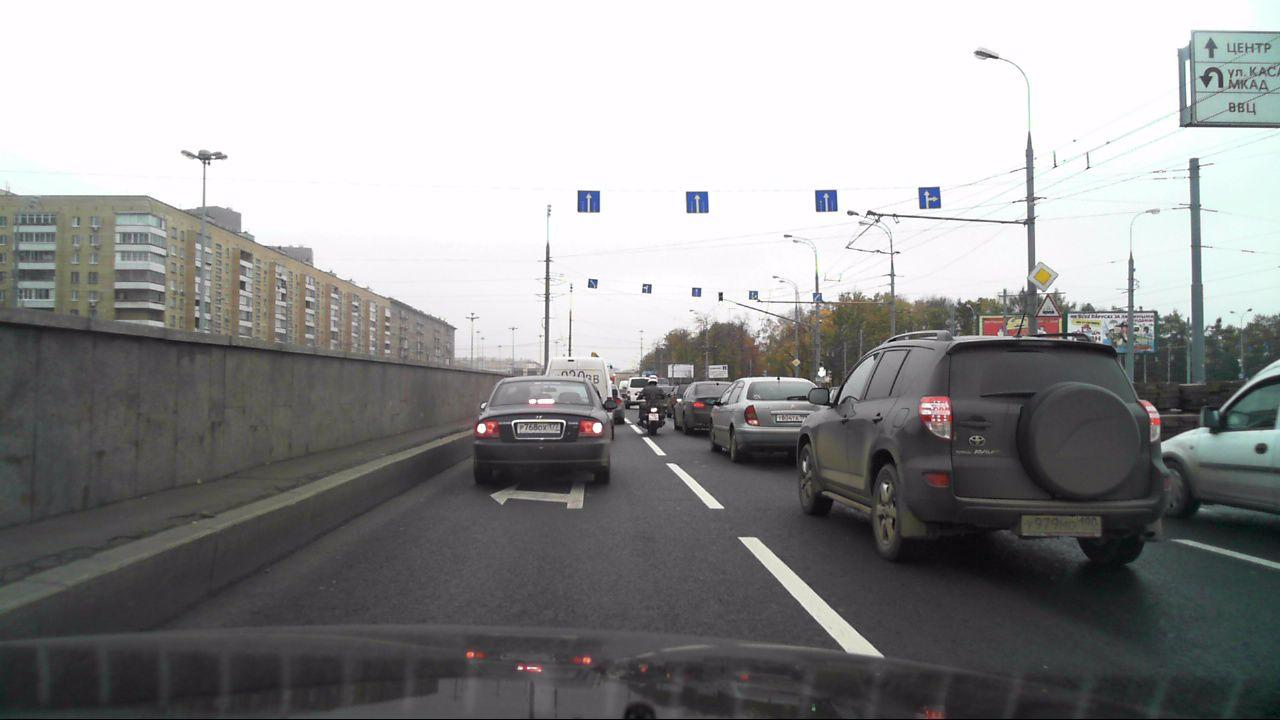1_5: (1036, 294, 1059, 318)
2_1: (1029, 263, 1060, 292)
5_15_2: (574, 187, 603, 213), (914, 186, 943, 209), (686, 189, 711, 215), (811, 189, 838, 213), (639, 282, 654, 298), (587, 277, 600, 290), (812, 291, 823, 302), (749, 289, 758, 301), (692, 287, 699, 297)
6_9_1: (1184, 28, 1280, 128)
